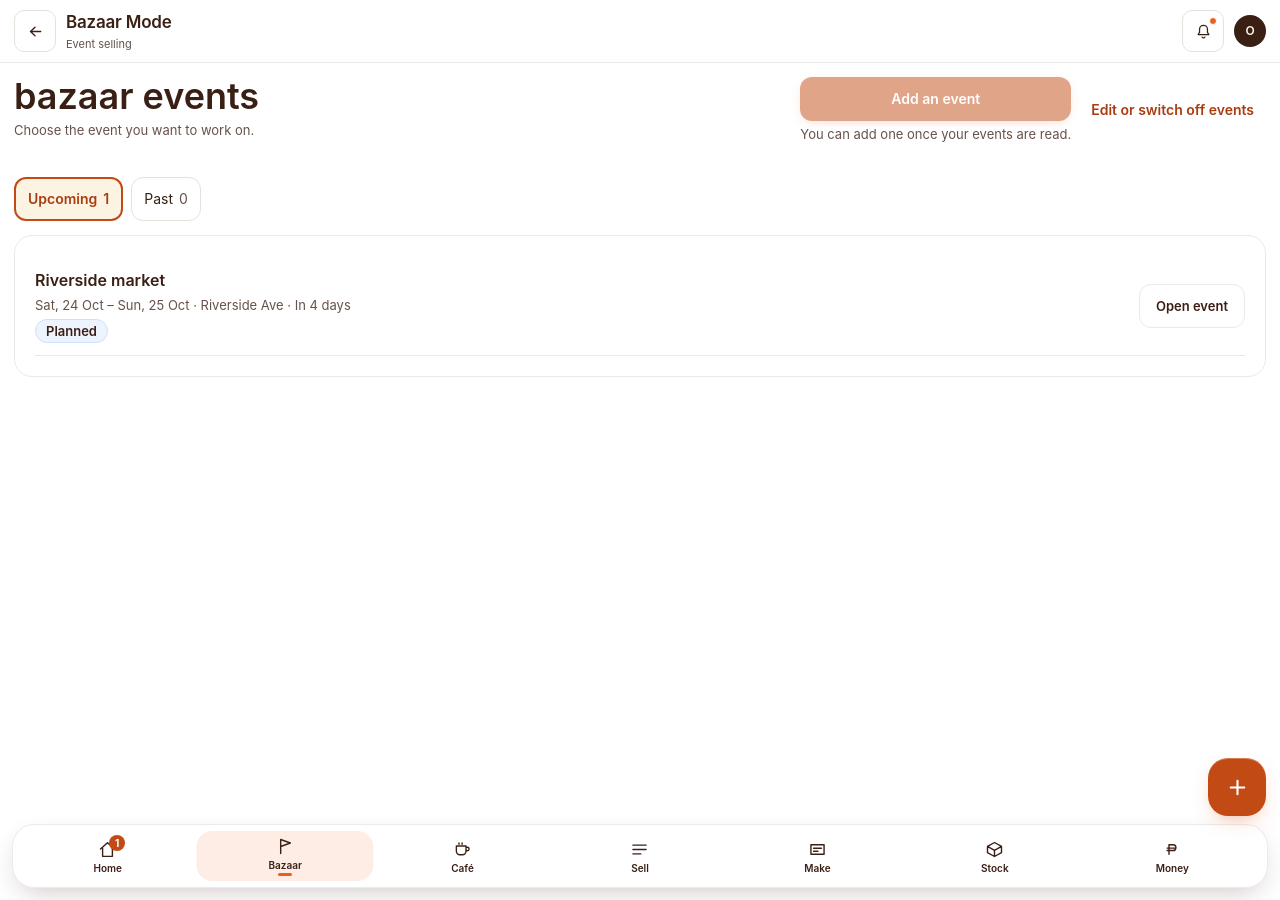
it: HCB-004 a: the Bazaar plan and a failed or unread catalogue read › B. a failed first read with nothing on the phone offers no built-in product or price, and says why
What coordinates should you click on to do the following:
click the button "Riverside market"
I would click on:
 (100, 280)
Its box is [35,256,1245,356].
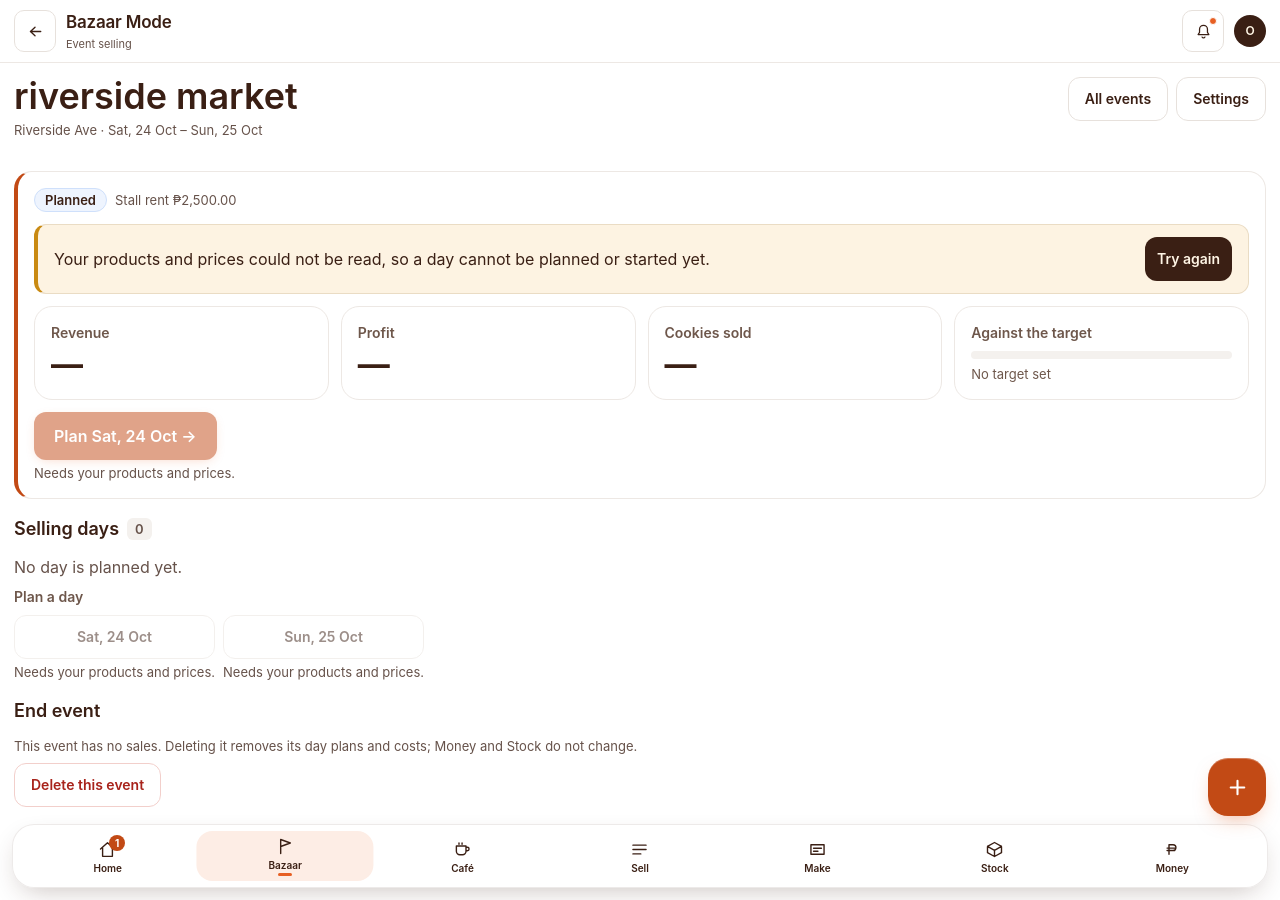
Expected: the text "could not be read" is shown, [54,249,710,269]
Expected: the button "Try again" is shown, [1145,237,1232,281]
